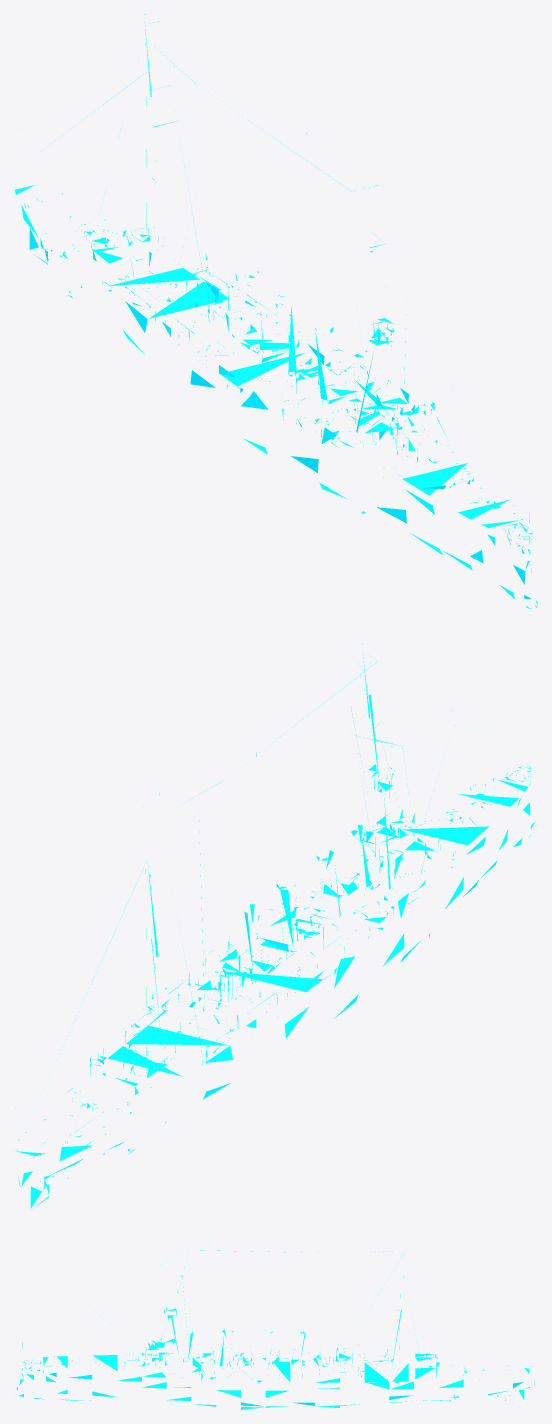
File: Port_Jackson.glb
3 views of the same model, one above another, from view 1: azimuth 30°, elevation 25°; view 2: azimuth 150°, elevation 25°; view 3: azimuth 270°, elevation 25° (orthographic). The views are drawn at different scales.
Bounding box in the file's own units: 0.9834 × 3.17 × 9.25.
